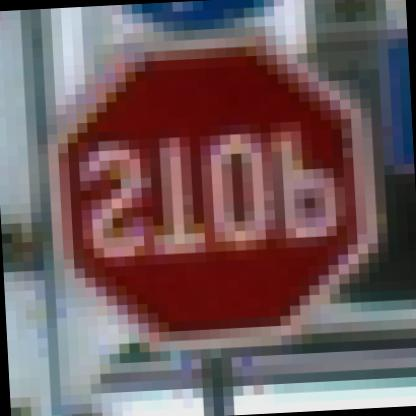stop: (32, 9, 392, 360)
